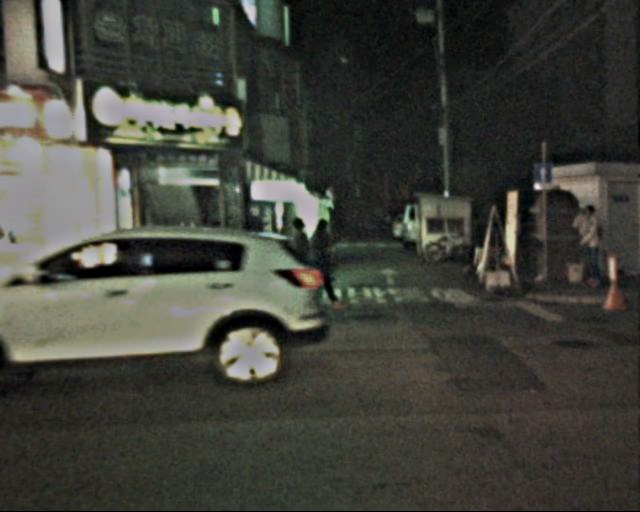person: (298, 215, 344, 310), (275, 213, 318, 305), (569, 205, 607, 294)
